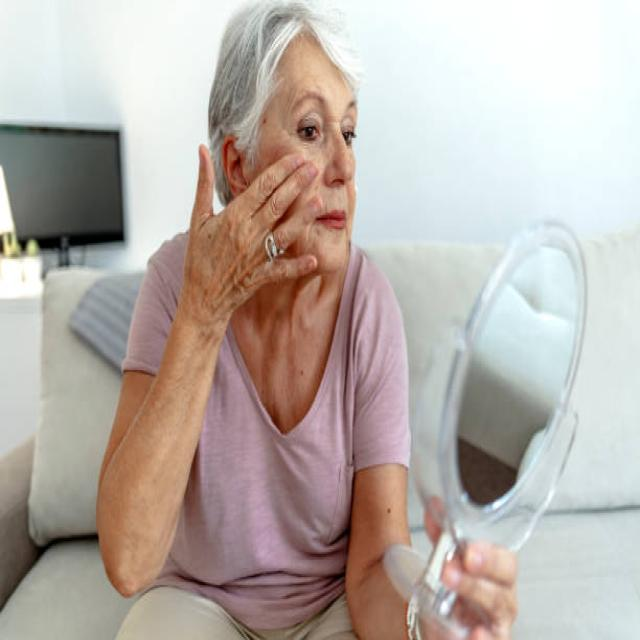Dry-Skin: (203, 188, 277, 325)
